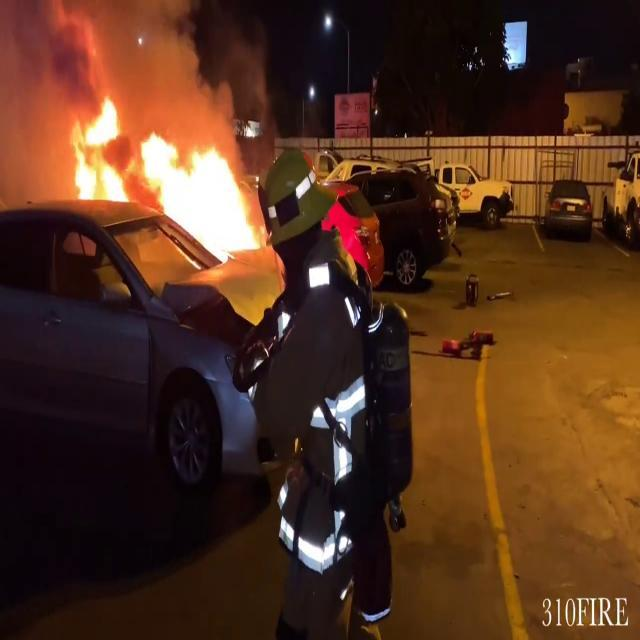Fire: (61, 90, 264, 261)
Smoke: (0, 0, 251, 151)
